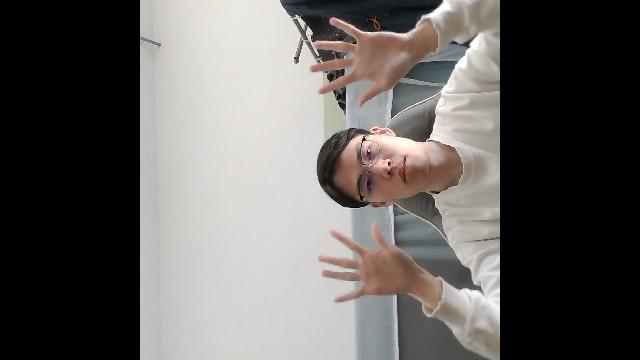five: (308, 16, 414, 108), (316, 220, 422, 304)
